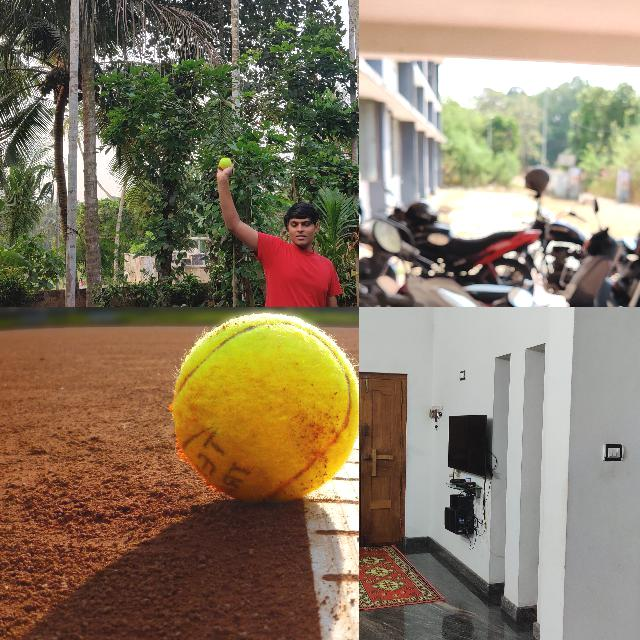Tennis Ball: (172, 313, 359, 506), (220, 157, 232, 169)
